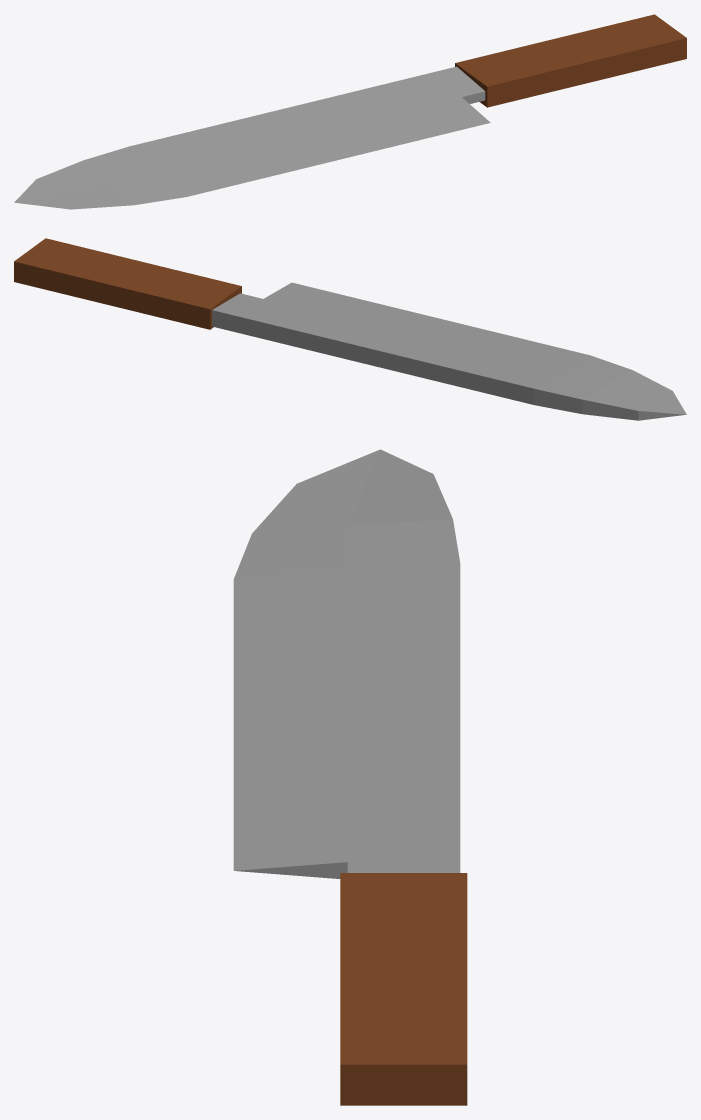
File: Knife.fbx
3 views of the same model, one above another, from view 1: azimuth 30°, elevation 25°; view 2: azimuth 150°, elevation 25°; view 3: azimuth 270°, elevation 25° (orthographic). The views are drawn at different scales.
Visible parts, largest first — view 1: Blade, Handle; view 2: Blade, Handle; view 3: Blade, Handle.
Part boxes in pixels (x1,y1,x2,y2): Blade: (14,66,490,209); Handle: (455,14,686,107); Blade: (212,282,686,420); Handle: (14,238,241,329); Blade: (233,449,460,878); Handle: (340,873,467,1105).
Bounding box in the file's own units: 33.19 × 1 × 5.16.
